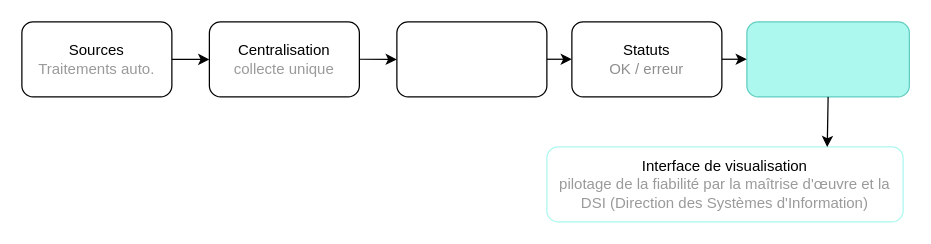
Image size: 931x244. Some labels were removed from this diagram. Here are the shapes that lost their labels. From the top down, the centre of each, then its label:
At (x=471, y=59): "Normalisation format commun".
At (x=827, y=59): "Indicateurs taux de succès".
